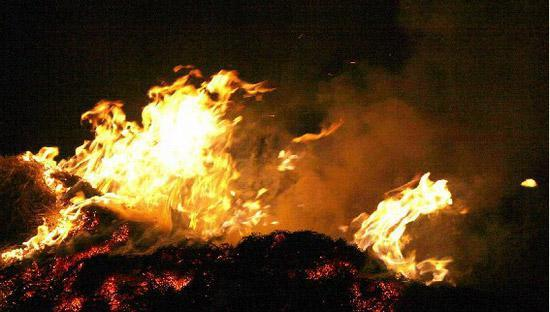fire: (8, 53, 268, 255), (343, 160, 459, 284)
